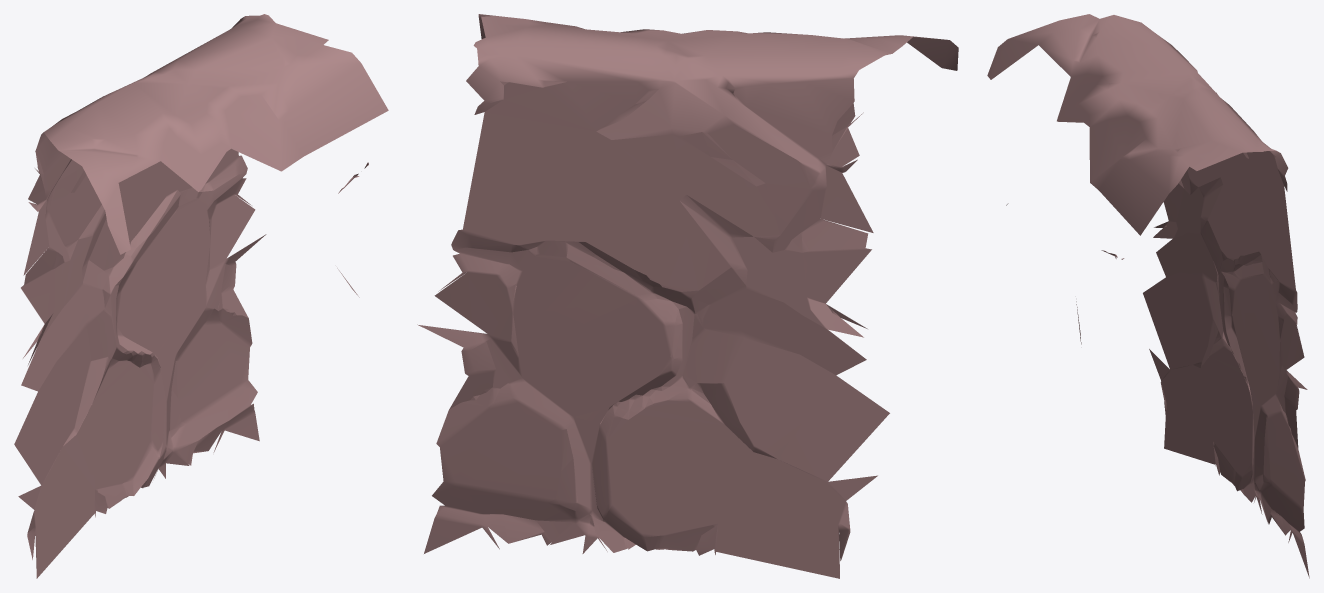
Rendered from canyon.fbx_PolyShape__3__025LODs.fbx.
3 views of the same model, side by side, from view 1: azimuth 30°, elevation 25°; view 2: azimuth 150°, elevation 25°; view 3: azimuth 270°, elevation 25° (orthographic). The views are drawn at different scales.
Parts seen in each view (by area): view 1: PolyShape (3).025_LOD0; view 2: PolyShape (3).025_LOD0; view 3: PolyShape (3).025_LOD0.
Boxes of the visible parts, <box> form: PolyShape (3).025_LOD0: <box>14,14,388,578</box>; PolyShape (3).025_LOD0: <box>417,14,958,578</box>; PolyShape (3).025_LOD0: <box>987,14,1309,578</box>.
Size of what is drawn, in the model's own units: 3193 by 3779 by 2575.
